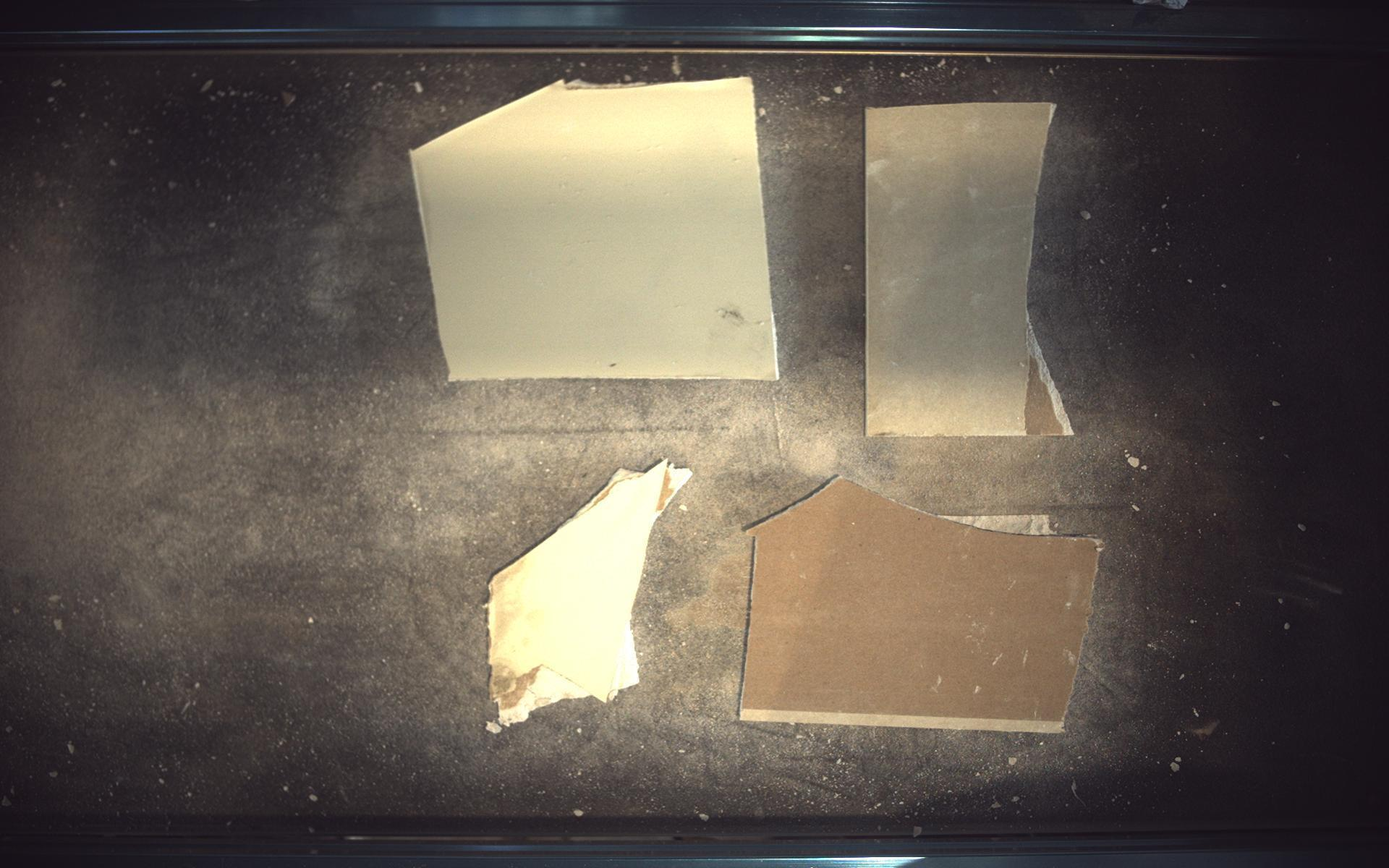gypsum_board: (411, 77, 779, 380), (742, 478, 1104, 734), (867, 101, 1076, 436), (488, 460, 693, 733)
